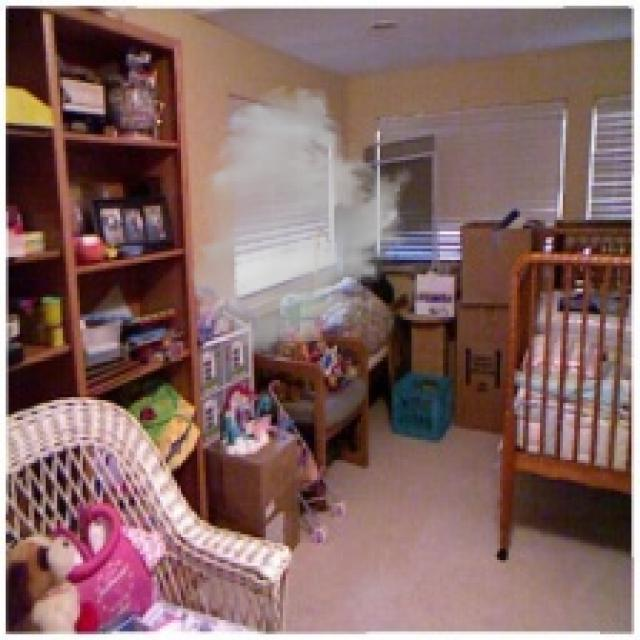Smoke: (188, 82, 414, 358)
